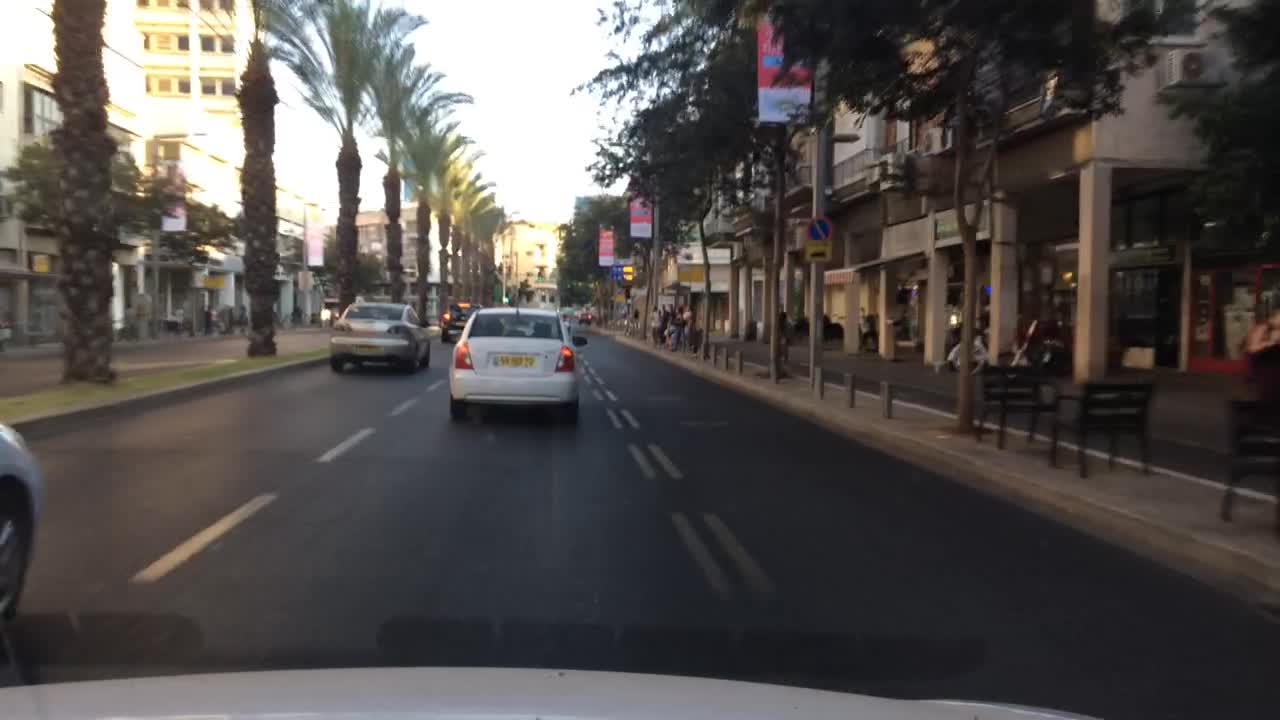car: (445, 303, 588, 428), (0, 418, 42, 628), (327, 297, 431, 375), (440, 304, 485, 342), (557, 309, 572, 332), (577, 311, 595, 327)
motor: (946, 314, 1066, 371)
person: (1247, 305, 1278, 401), (676, 304, 692, 354), (775, 309, 789, 360), (664, 317, 678, 354), (650, 304, 662, 347), (685, 307, 696, 345), (631, 307, 640, 330), (658, 301, 667, 322), (665, 302, 676, 318)
traffic light: (501, 288, 512, 305), (534, 268, 544, 281)
traffic sign: (803, 237, 834, 264), (804, 217, 832, 237), (612, 260, 633, 280), (202, 275, 224, 290), (296, 273, 313, 289)
